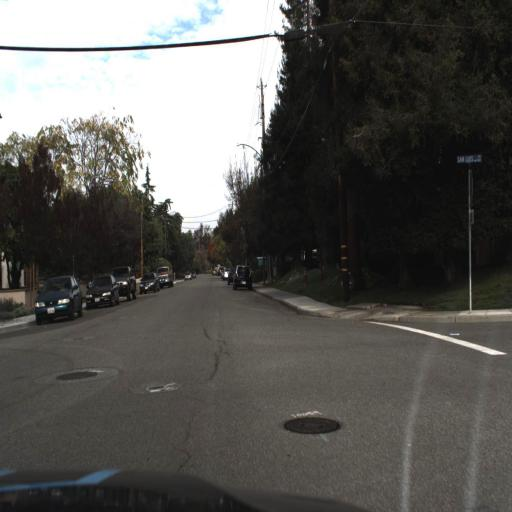car: (29, 271, 91, 333), (82, 263, 121, 315), (115, 261, 144, 310), (230, 258, 252, 294), (137, 270, 161, 298), (156, 261, 177, 291)
